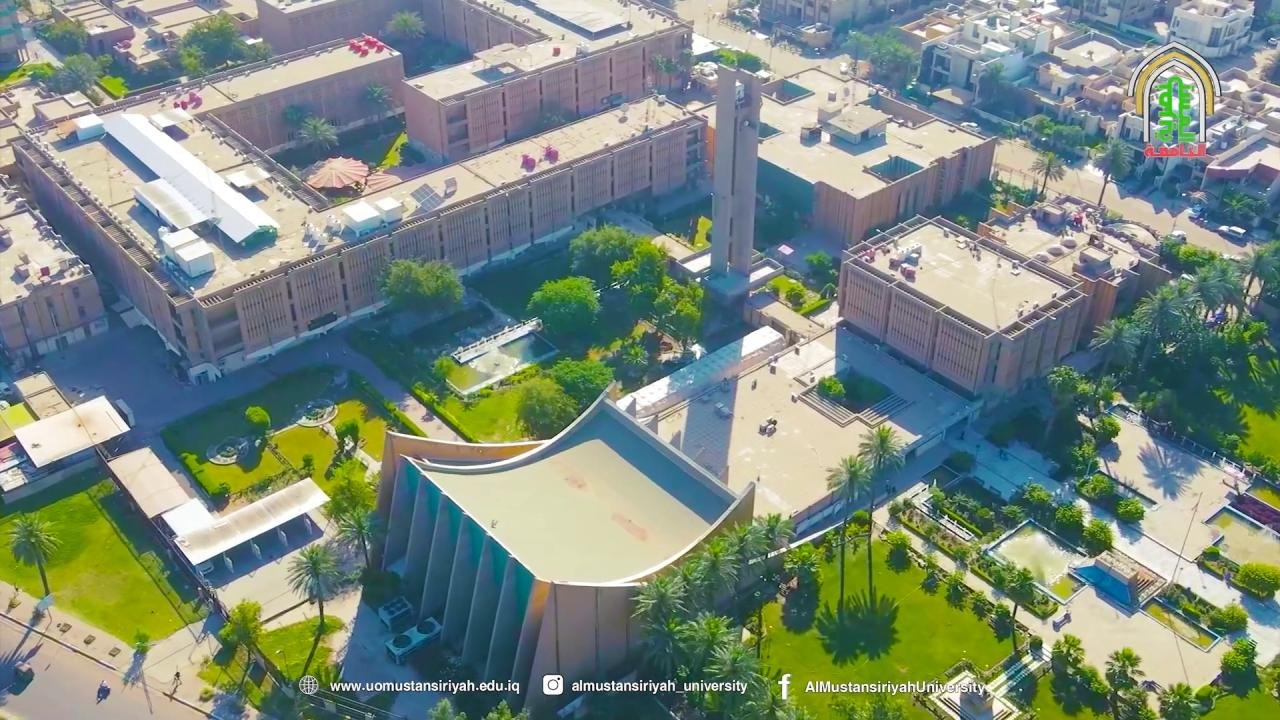car: (1218, 225, 1246, 238), (1170, 230, 1187, 244), (960, 120, 980, 130)
fountain: (983, 519, 1088, 606), (456, 323, 560, 383)
person: (95, 679, 111, 704), (171, 665, 182, 692), (1223, 567, 1232, 589)
tree: (1084, 238, 1278, 479), (627, 510, 822, 718), (284, 542, 359, 679), (855, 419, 907, 598), (824, 453, 873, 610), (812, 586, 901, 668), (672, 610, 742, 714), (319, 457, 379, 567), (2, 509, 63, 597), (699, 642, 768, 718), (378, 255, 465, 314), (566, 221, 640, 288), (217, 598, 268, 695), (525, 274, 601, 337), (1088, 646, 1152, 719), (844, 26, 919, 88), (512, 376, 579, 439), (652, 275, 705, 352), (609, 240, 668, 307), (546, 356, 615, 412), (1132, 281, 1194, 343), (179, 9, 242, 68), (1136, 439, 1193, 500), (1090, 138, 1134, 208), (1087, 315, 1140, 371), (120, 628, 154, 713), (857, 418, 906, 475), (385, 7, 426, 75), (824, 453, 872, 509), (336, 503, 375, 567), (746, 510, 796, 557), (38, 15, 89, 58), (1217, 185, 1269, 226), (1246, 237, 1280, 299), (859, 29, 901, 77), (781, 542, 822, 590), (1232, 560, 1279, 600), (60, 51, 102, 94), (298, 113, 338, 158), (1029, 149, 1063, 200), (1157, 681, 1201, 719), (1003, 566, 1035, 618), (1220, 636, 1258, 679), (1208, 602, 1248, 642), (1104, 646, 1144, 686), (1049, 633, 1085, 676), (364, 80, 391, 135), (880, 528, 913, 573), (764, 274, 807, 308), (386, 8, 426, 41), (843, 28, 871, 74), (1069, 435, 1098, 479), (1046, 363, 1083, 397), (1081, 517, 1114, 555), (985, 419, 1017, 458), (989, 176, 1024, 211), (1053, 501, 1085, 539), (1022, 481, 1052, 521), (1075, 472, 1113, 503), (652, 52, 681, 90), (244, 404, 271, 442), (1133, 387, 1162, 420), (983, 60, 1005, 103), (334, 418, 360, 454), (484, 698, 530, 718), (1091, 413, 1120, 443), (1115, 496, 1145, 524), (804, 248, 834, 274), (677, 47, 695, 89), (816, 374, 845, 400), (381, 397, 402, 432), (1000, 503, 1026, 528), (693, 215, 711, 246), (300, 452, 315, 478)
